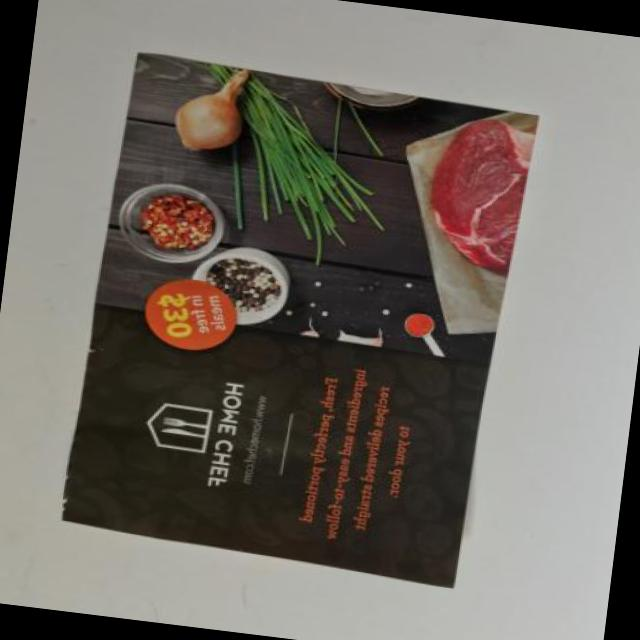paper: (64, 51, 522, 586)
